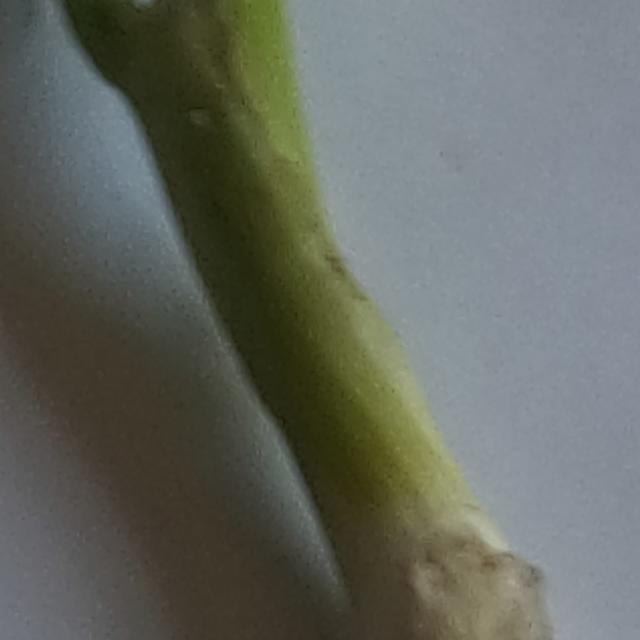green_onion: (51, 0, 559, 640)
